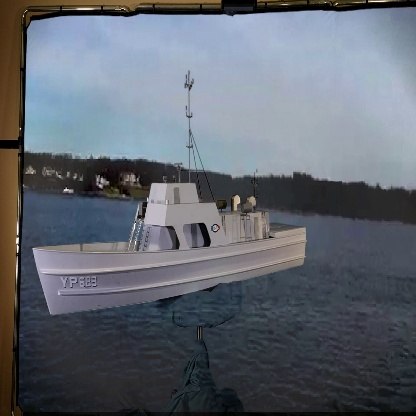YP689: (31, 73, 305, 321)
